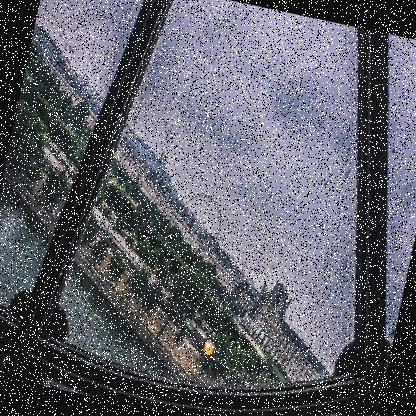Car: (180, 315, 194, 330)
